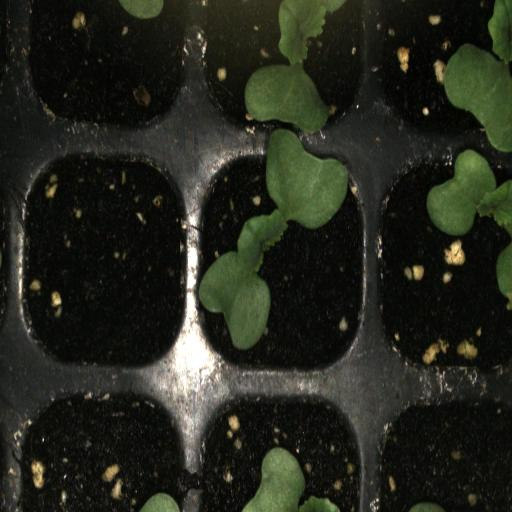Folha: (443, 0, 512, 154), (427, 149, 512, 236), (242, 447, 340, 512)
Germinacao: (194, 140, 373, 374), (376, 139, 512, 378), (197, 0, 376, 134)
